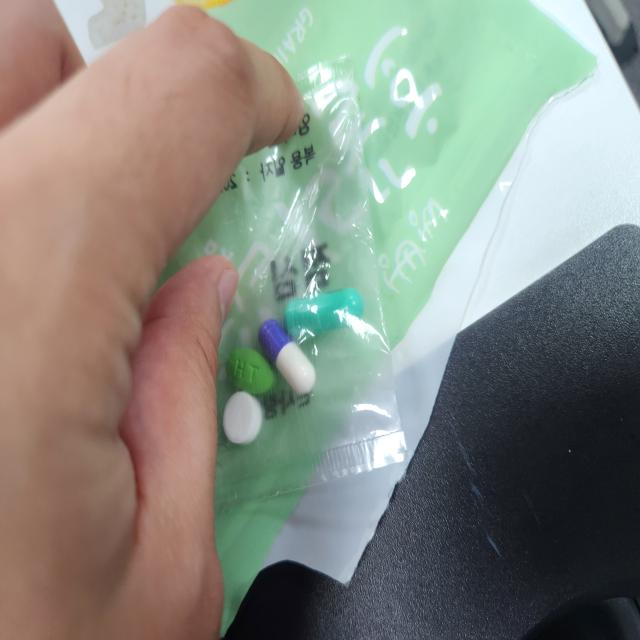러키펜정: (222, 393, 265, 447)
씨엠지세파클러캡슐: (257, 321, 317, 401)
에르도캡슐: (285, 289, 363, 343)
휴티렌정: (225, 349, 275, 397)
